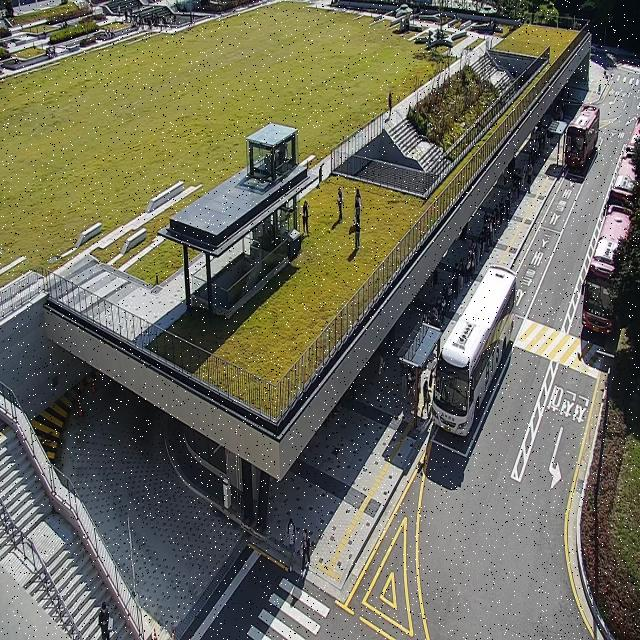queue: (415, 101, 566, 431)
